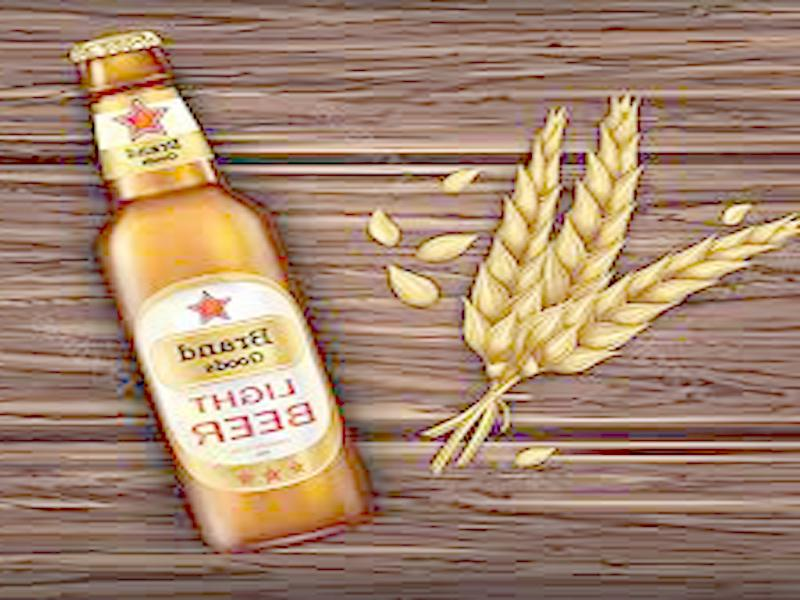Beer: (67, 29, 369, 549)
